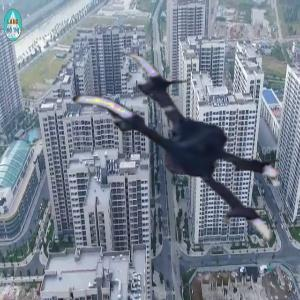drone: (55, 44, 293, 282)
